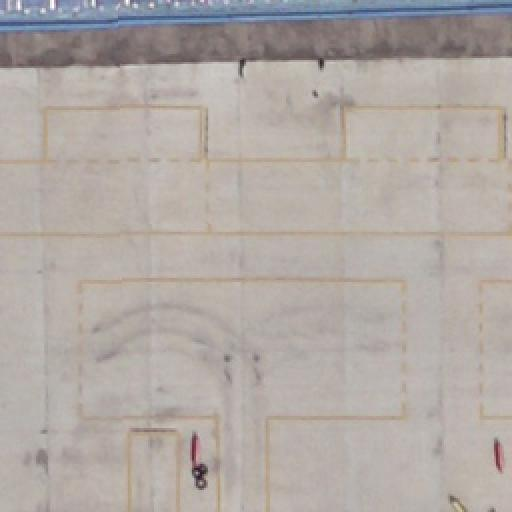solar-panel: (18, 0, 86, 8), (95, 1, 161, 7), (169, 0, 231, 4), (0, 0, 8, 8)
